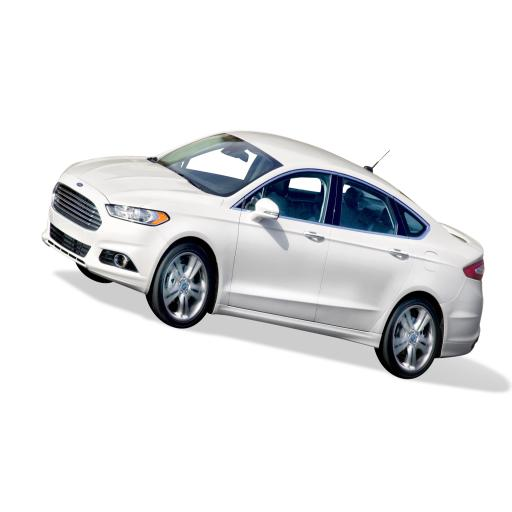Sedan-sDLz: (42, 131, 483, 378)
